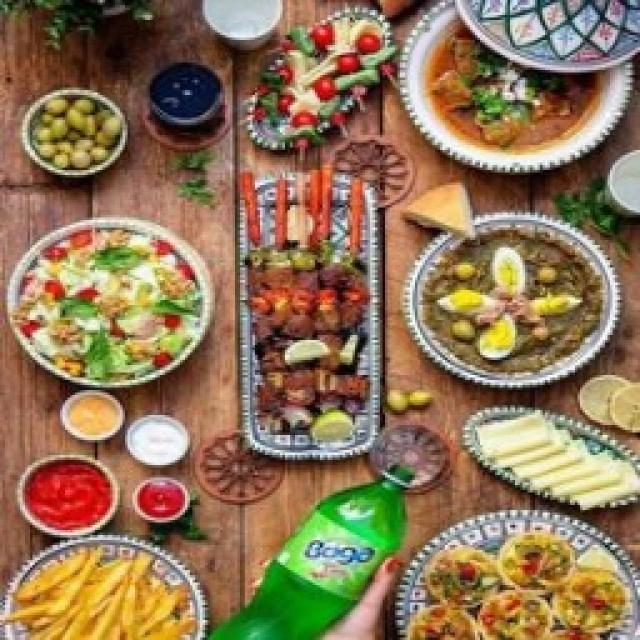Salade mechweya: (405, 214, 619, 388)
